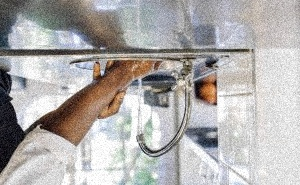washing hand: (57, 60, 203, 169)
